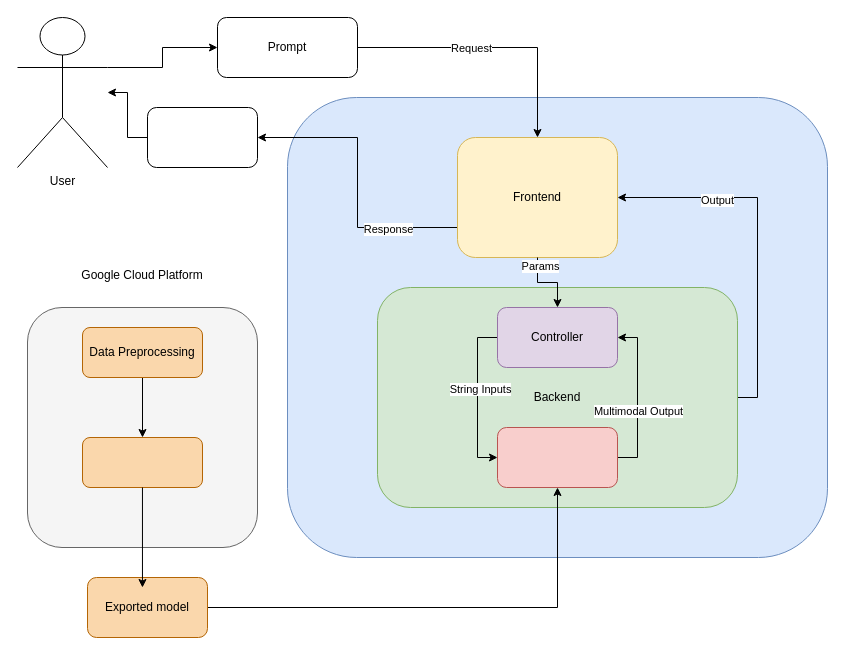
This 845x655 diagram has some shape labels left out. The shapes that lost their labels are listed below. From the top down, each one's centre as x and y in pixels, then its label:
(x=202, y=137): Answer
(x=142, y=462): Model Training
(x=557, y=457): Imported Model
